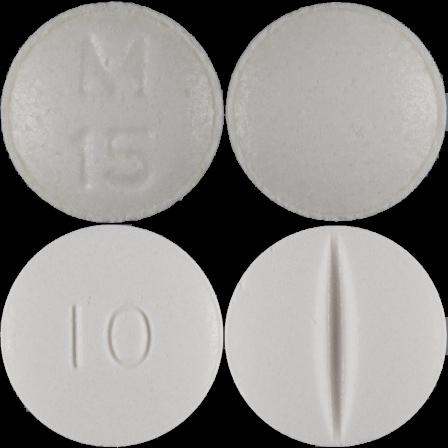63187-254: (0, 0, 224, 224)
